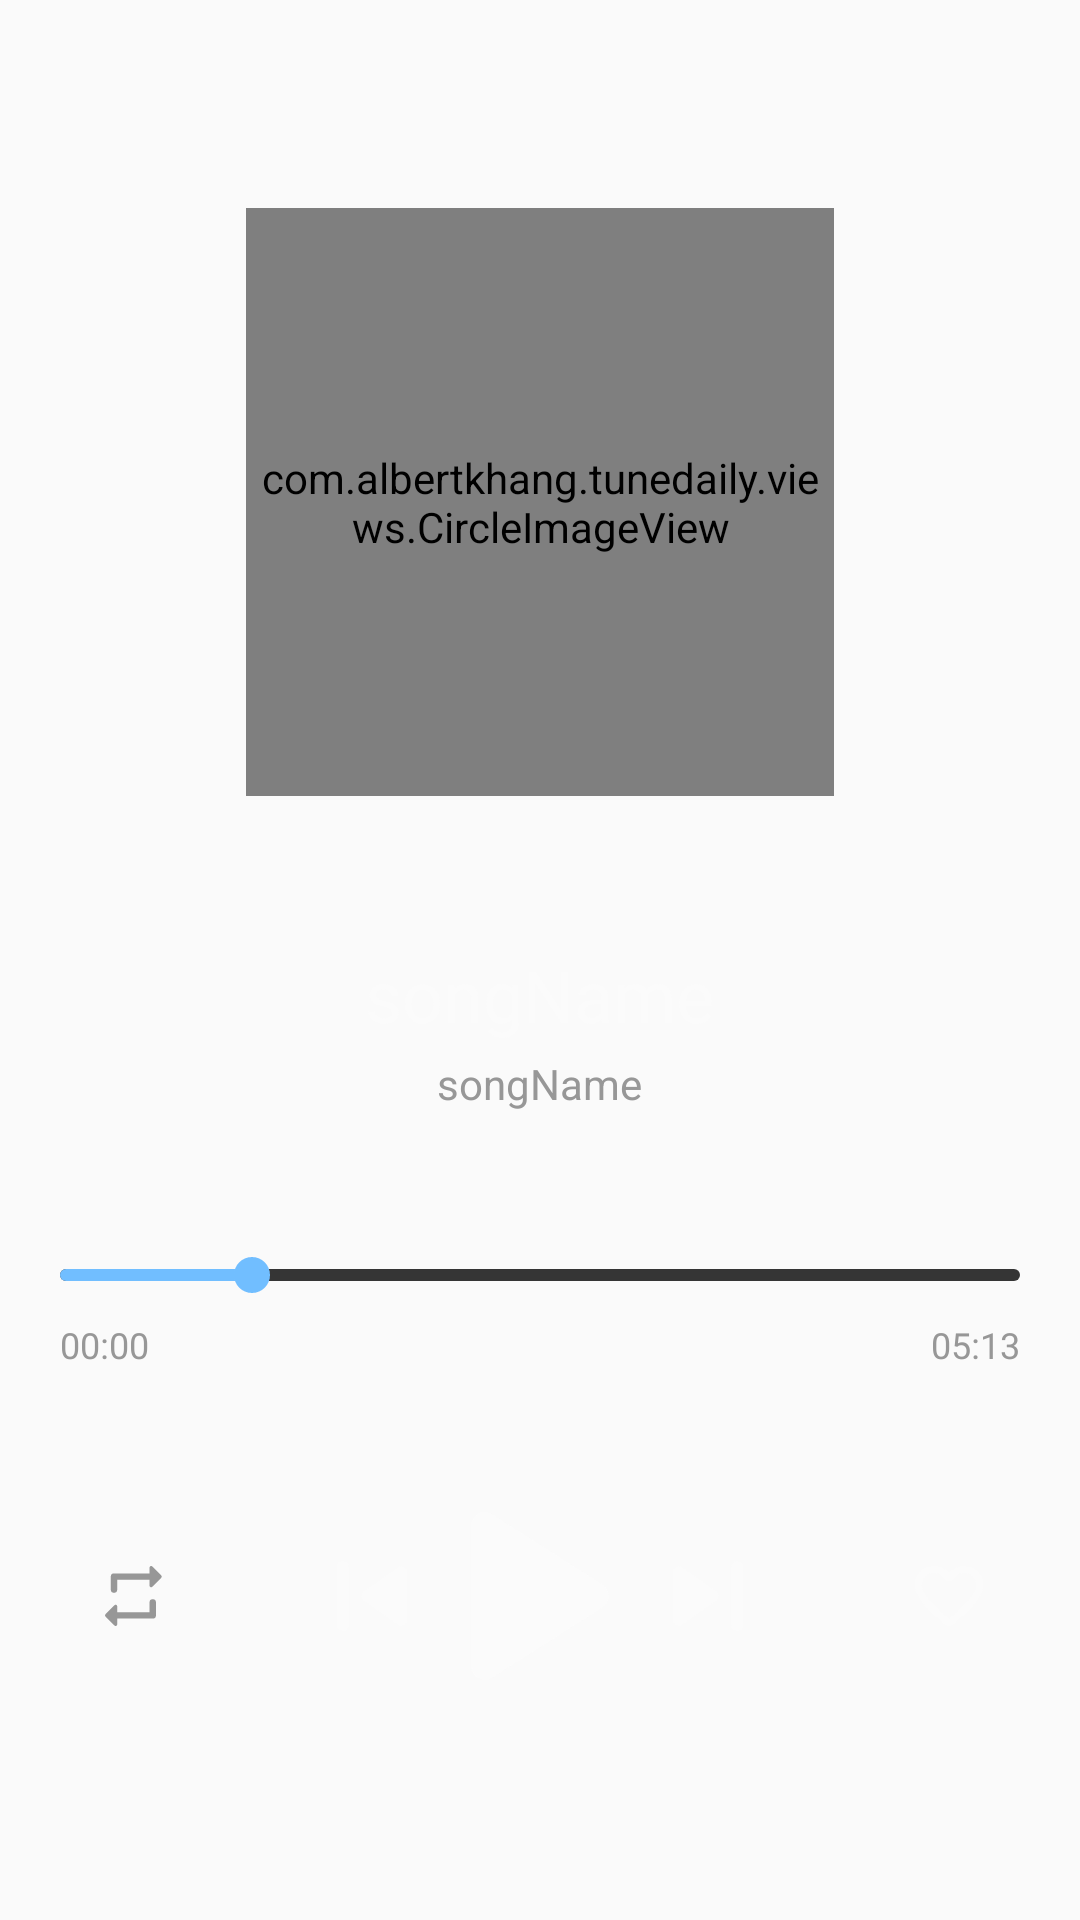

Where to tap for icons on this 1080 × 1920 app screen, as point (x, y):
not repeat: point (133, 1596)
